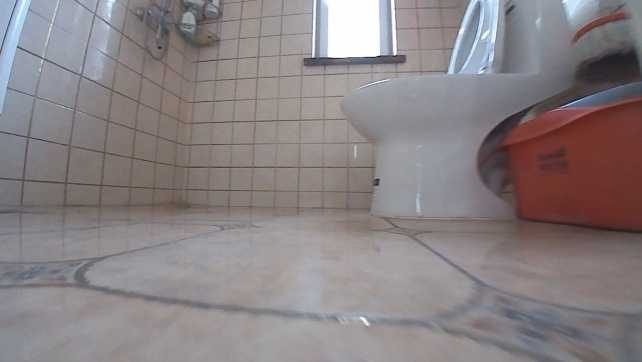toilet: (337, 0, 580, 226)
